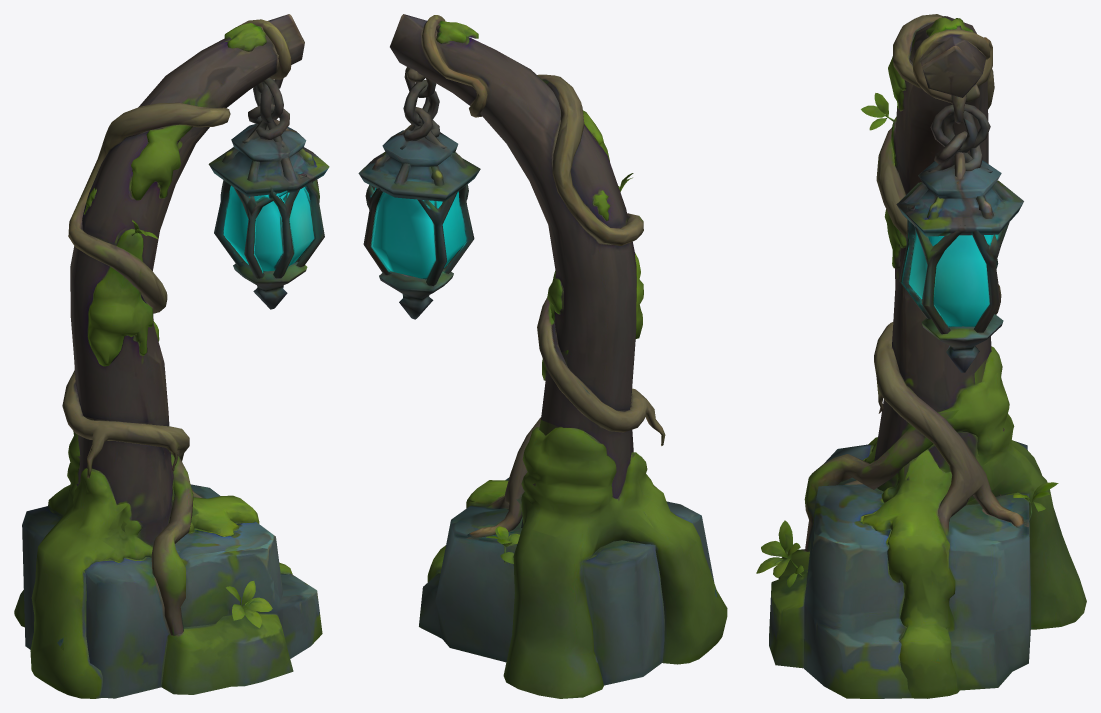
The model's file is Lantern.fbx.
The picture shows the model from 3 angles, left to right: view 1: azimuth 30°, elevation 25°; view 2: azimuth 150°, elevation 25°; view 3: azimuth 270°, elevation 25°; orthographic projection. The views are drawn at different scales.
Parts seen in each view (by area): view 1: Lantern; view 2: Lantern; view 3: Lantern.
Boxes of the visible parts, x1=… form: Lantern: x1=14, y1=14, x2=329, y2=698; Lantern: x1=358, y1=14, x2=727, y2=698; Lantern: x1=756, y1=14, x2=1086, y2=698.
Size of the model in its own units: 1.74 by 3.2 by 1.45.
